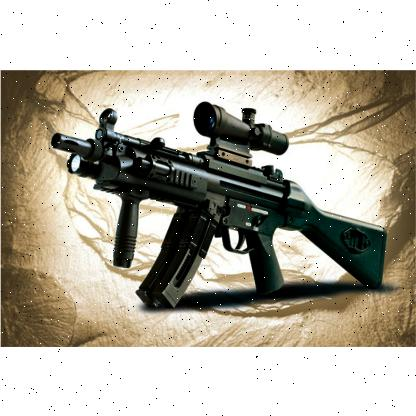gun: (49, 100, 387, 308)
